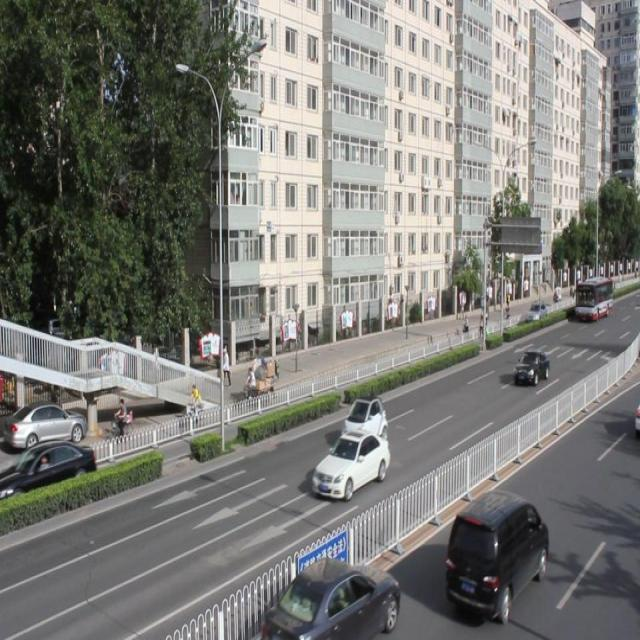car: (446, 486, 548, 614), (264, 552, 398, 640), (1, 437, 96, 510), (312, 428, 390, 498), (338, 394, 387, 446), (512, 348, 549, 386)
